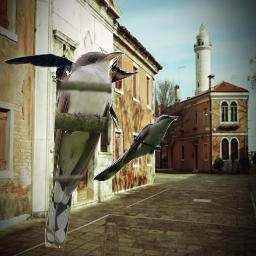Cuckoo: (45, 50, 125, 248), (93, 114, 179, 181)
Swallow: (1, 46, 164, 131)
